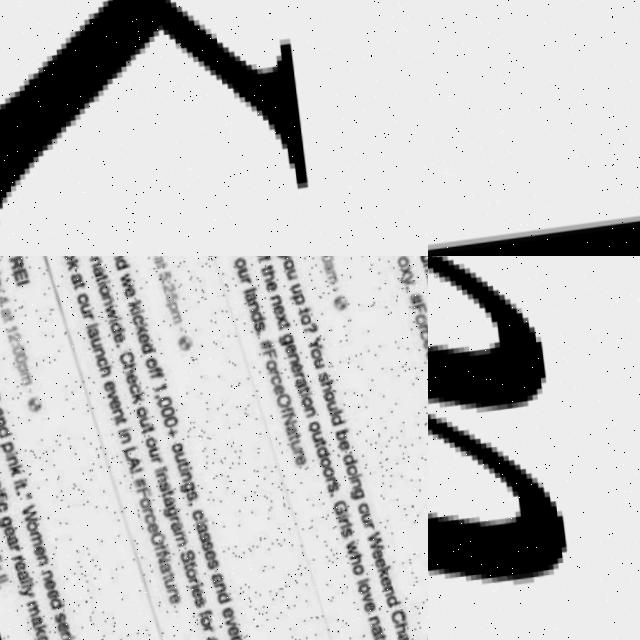0: (153, 397, 171, 410), (156, 406, 173, 419), (160, 416, 177, 429), (10, 351, 27, 364), (8, 343, 25, 355), (318, 256, 333, 267), (316, 256, 331, 259)
1: (428, 147, 640, 256), (149, 383, 166, 393), (2, 324, 19, 334)
2: (4, 330, 22, 342), (159, 284, 175, 296)
4: (0, 293, 9, 306)
5: (156, 272, 172, 284), (162, 292, 177, 304)
K: (0, 0, 428, 256)
M: (428, 256, 581, 640)
